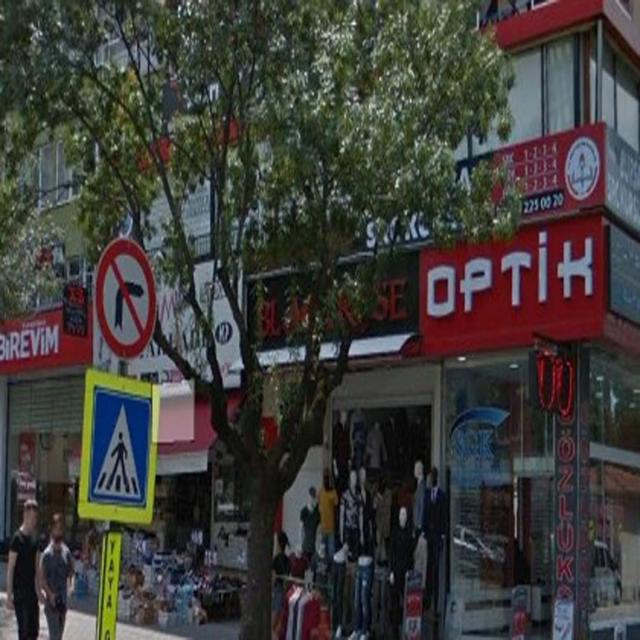sagadonulmez: (95, 238, 157, 358)
